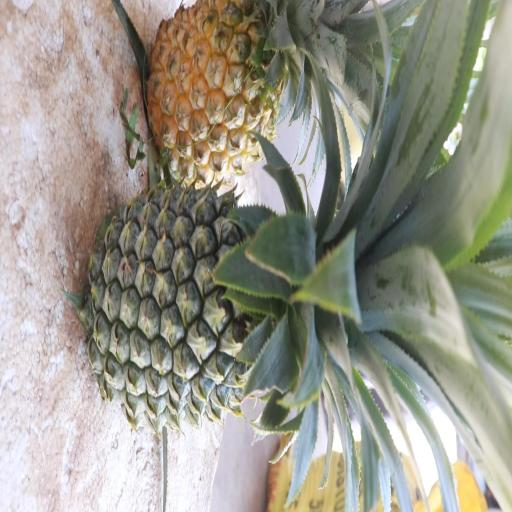Pineapple - v8 v1: (147, 0, 381, 174)
